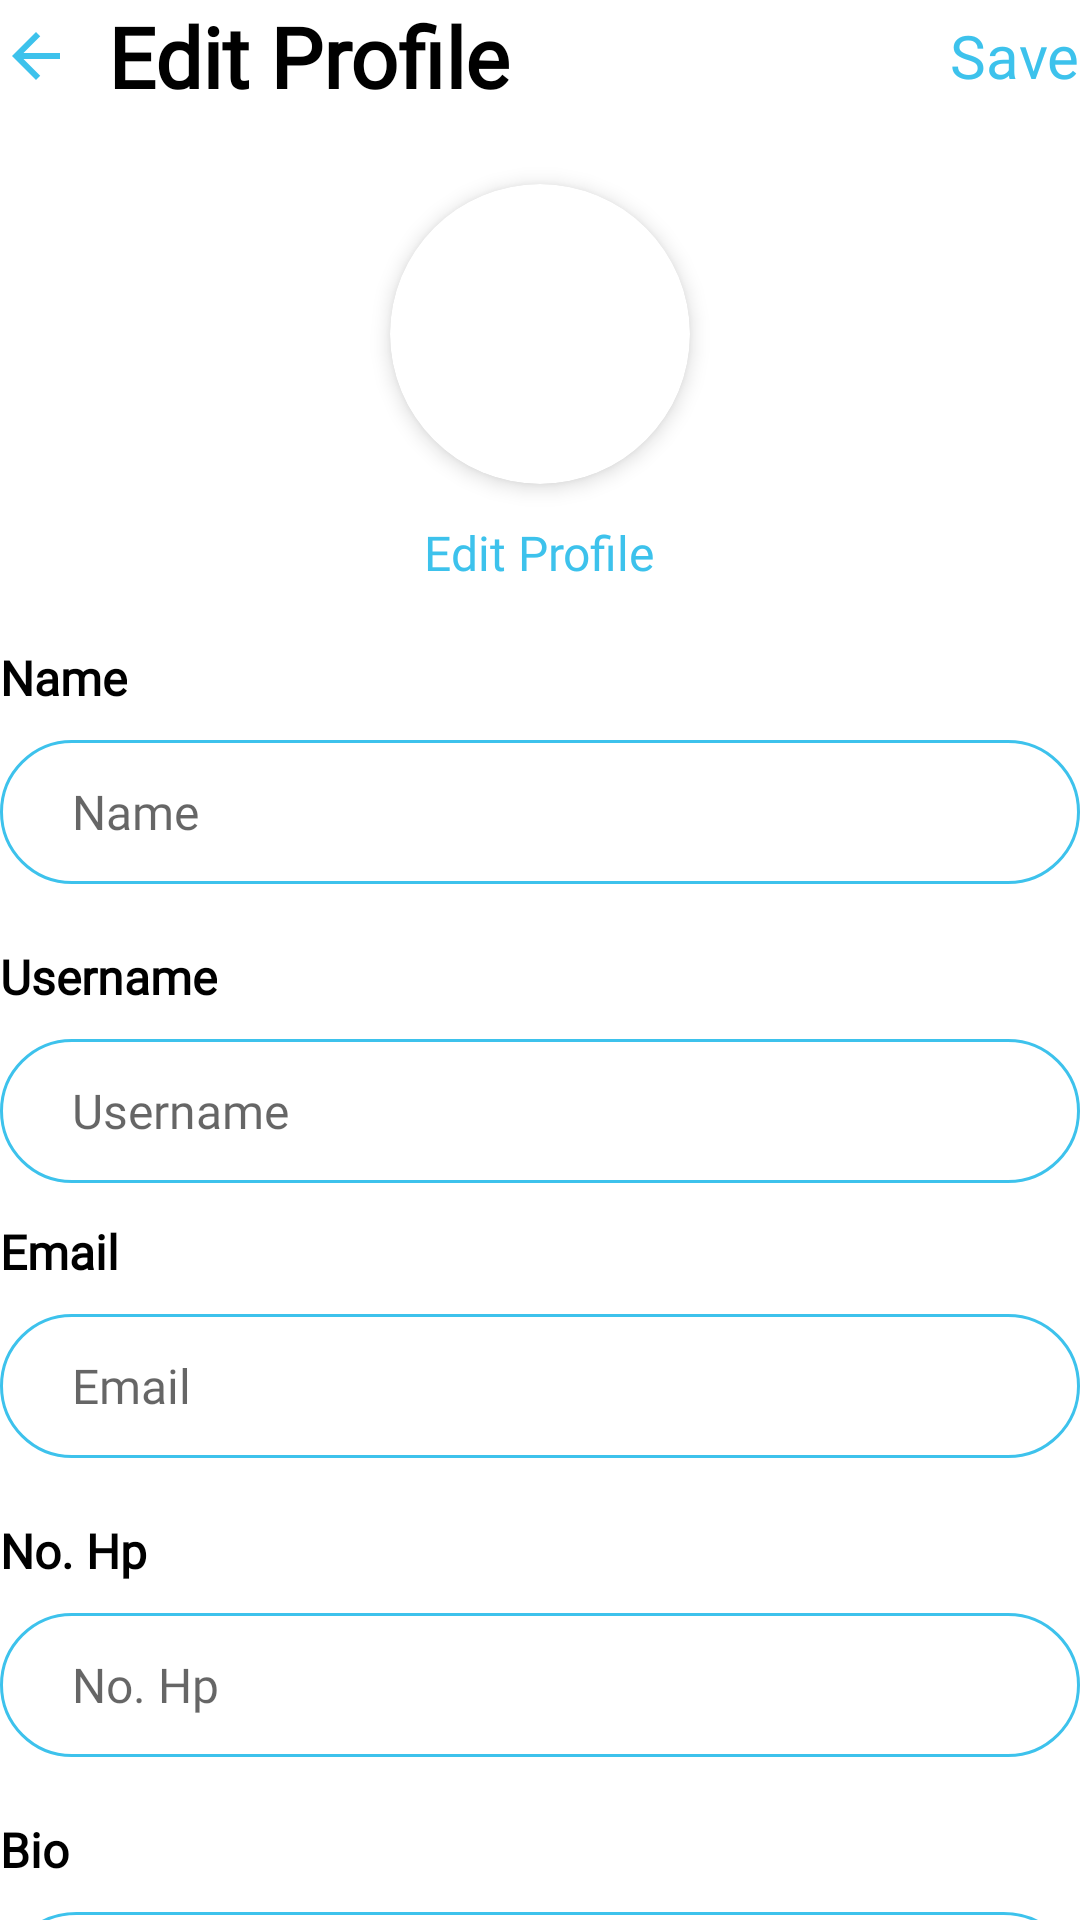

Icon bounding boxes for this 1080×1920 phone screenshot, format bbox=[x1, y1, x2, y2]:
back: bbox=[12, 32, 60, 80]
